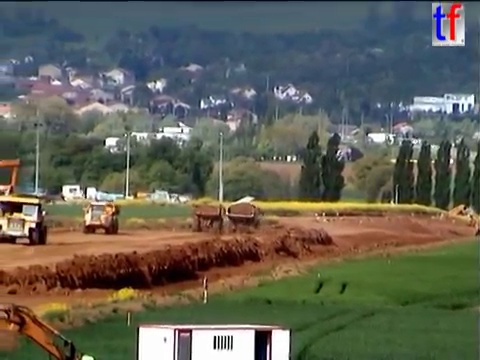excavator: (1, 299, 102, 360), (1, 155, 24, 199)
truck: (1, 192, 51, 246), (80, 196, 122, 235), (226, 200, 266, 233), (189, 202, 226, 233)
